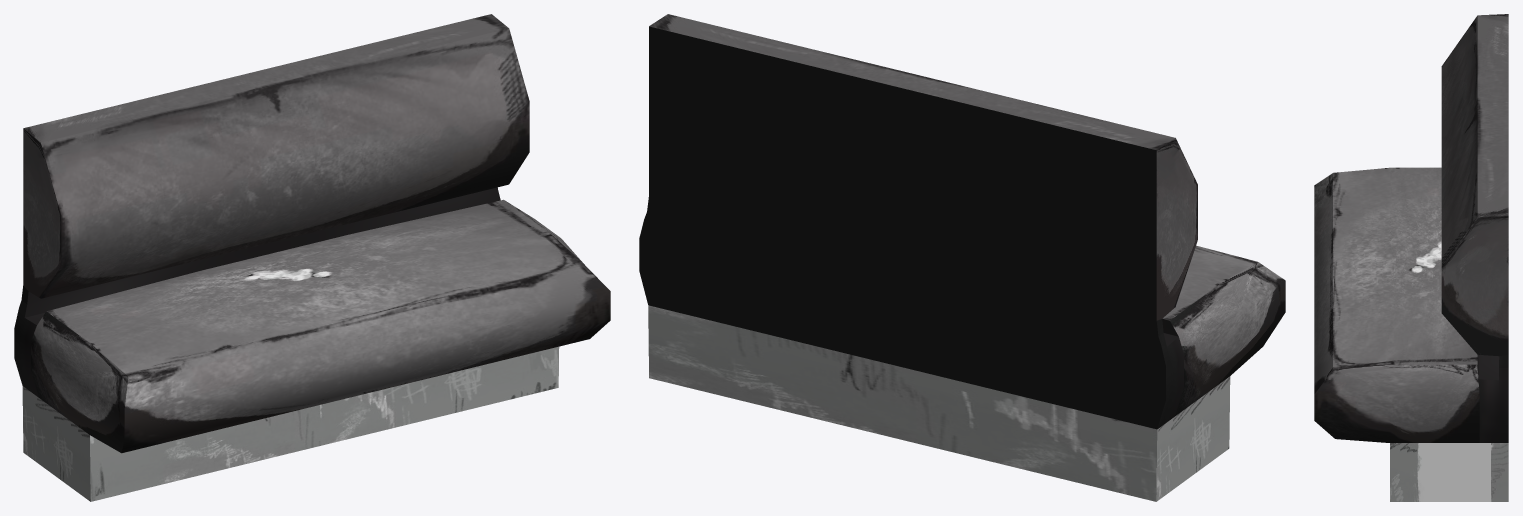
The model's file is GDC_subway_seat_var3_maggierose.fbx.
The picture shows the model from 3 angles, left to right: view 1: azimuth 30°, elevation 25°; view 2: azimuth 150°, elevation 25°; view 3: azimuth 270°, elevation 25°; orthographic projection. The views are drawn at different scales.
Parts seen in each view (by area): view 1: pasted__pCube5; view 2: pasted__pCube5; view 3: pasted__pCube5.
Boxes of the visible parts, box(x1,y1,x2,y2) form: pasted__pCube5: box(14, 14, 610, 501); pasted__pCube5: box(639, 14, 1285, 501); pasted__pCube5: box(1314, 14, 1508, 501).
Size of the model in its own units: 6.54 by 4.17 by 2.57.
